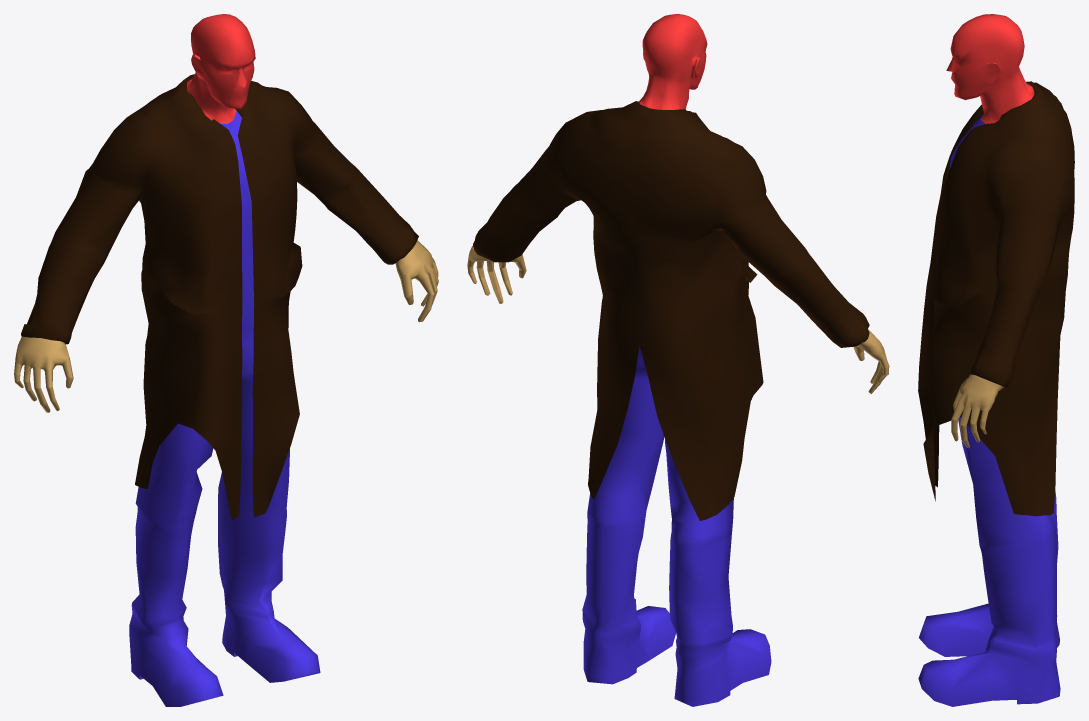
The model's file is HumanEnemyMale.FBX.
3 renders of one model, left to right at view 1: azimuth 30°, elevation 25°; view 2: azimuth 150°, elevation 25°; view 3: azimuth 270°, elevation 25°, orthographic.
Parts seen in each view (by area): view 1: coat_low, cloth_low, skin_low (×2); view 2: coat_low, cloth_low, skin_low (×2); view 3: coat_low, cloth_low, skin_low (×2).
Part boxes in pixels (x1=…): coat_low: x1=21, y1=74, x2=418, y2=519; cloth_low: x1=129, y1=111, x2=320, y2=706; skin_low (×2): x1=14, y1=14, x2=438, y2=412; coat_low: x1=473, y1=101, x2=869, y2=520; cloth_low: x1=582, y1=345, x2=771, y2=706; skin_low (×2): x1=467, y1=14, x2=889, y2=393; coat_low: x1=918, y1=81, x2=1074, y2=516; cloth_low: x1=918, y1=115, x2=1060, y2=706; skin_low (×2): x1=946, y1=14, x2=1034, y2=448.
Bounding box in the file's own units: 126 × 187 × 40.6.
